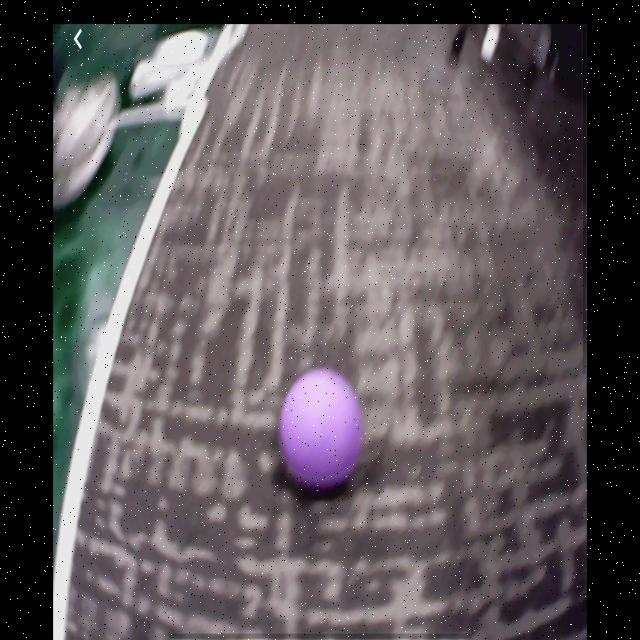ball: (281, 367, 360, 486)
